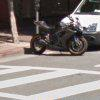Motorcycle: (23, 11, 93, 65)
